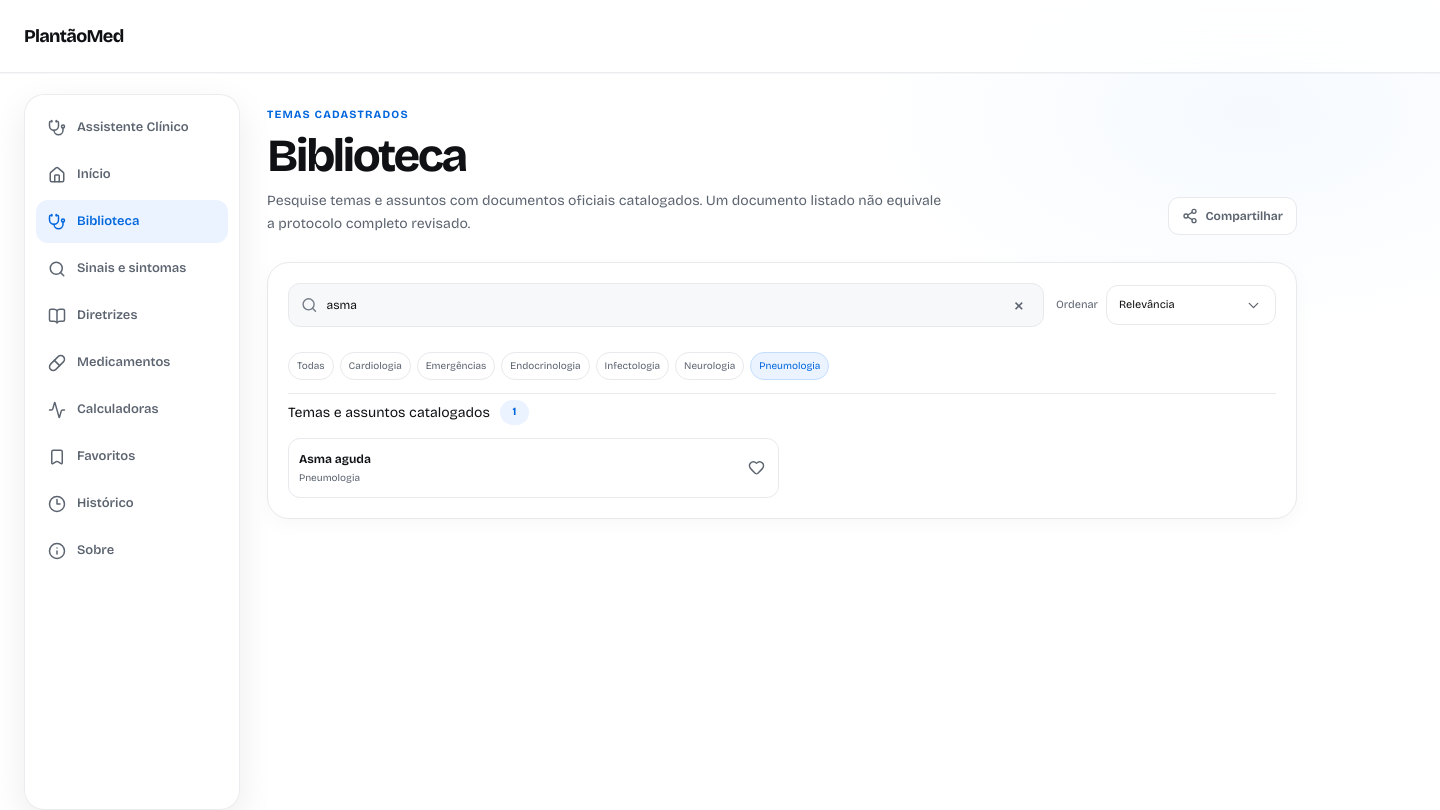
Test case: PlantãoMed independent routes › returns from protocol details to the prior filtered library URL
The image size is (1440, 810).
Click the link "Asma aguda Pneumologia" at (335, 468), box [299, 452, 371, 484]
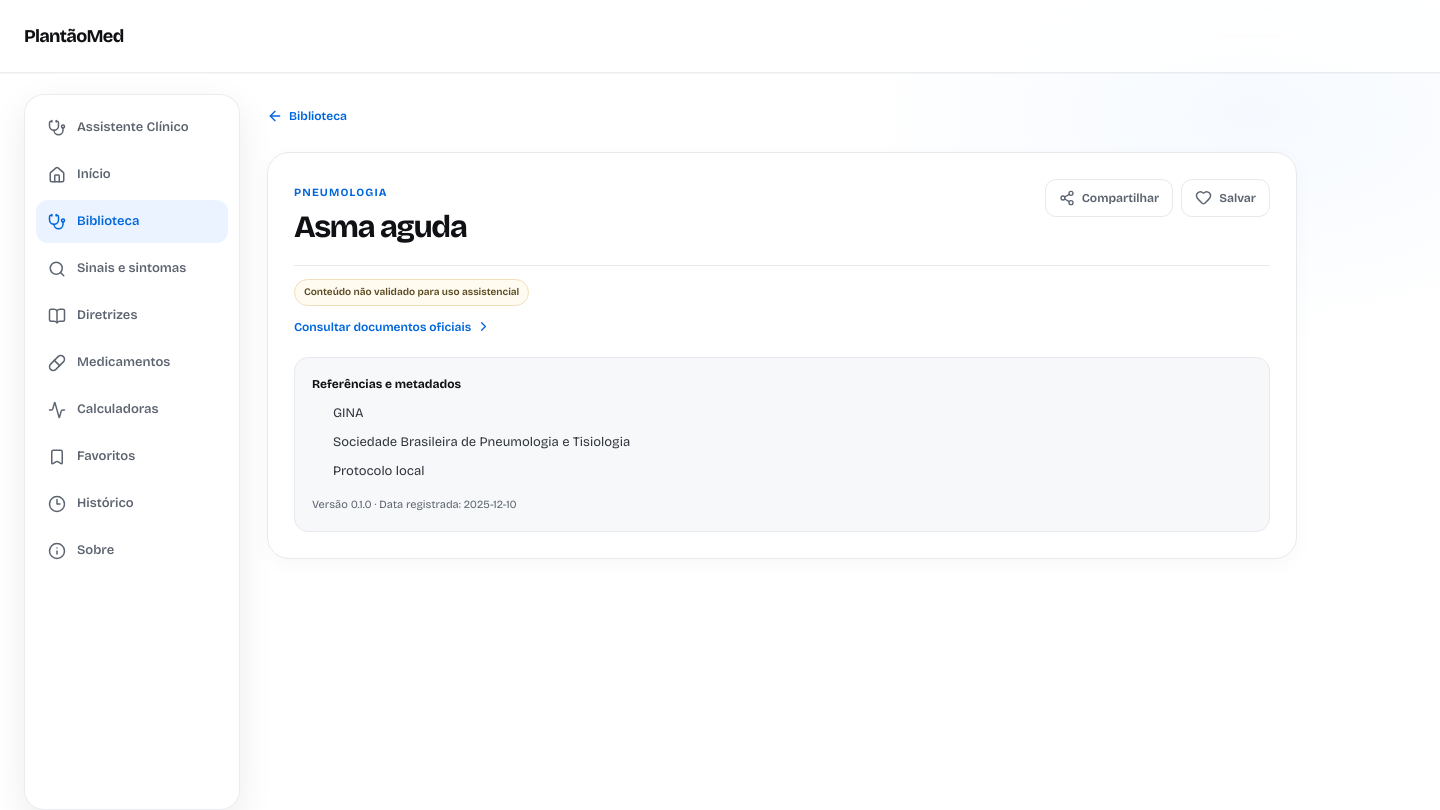
Result: the heading "Asma aguda" is shown at [294, 209, 466, 245]
Click the link with class "back-link" at (307, 116), box [267, 107, 347, 125]
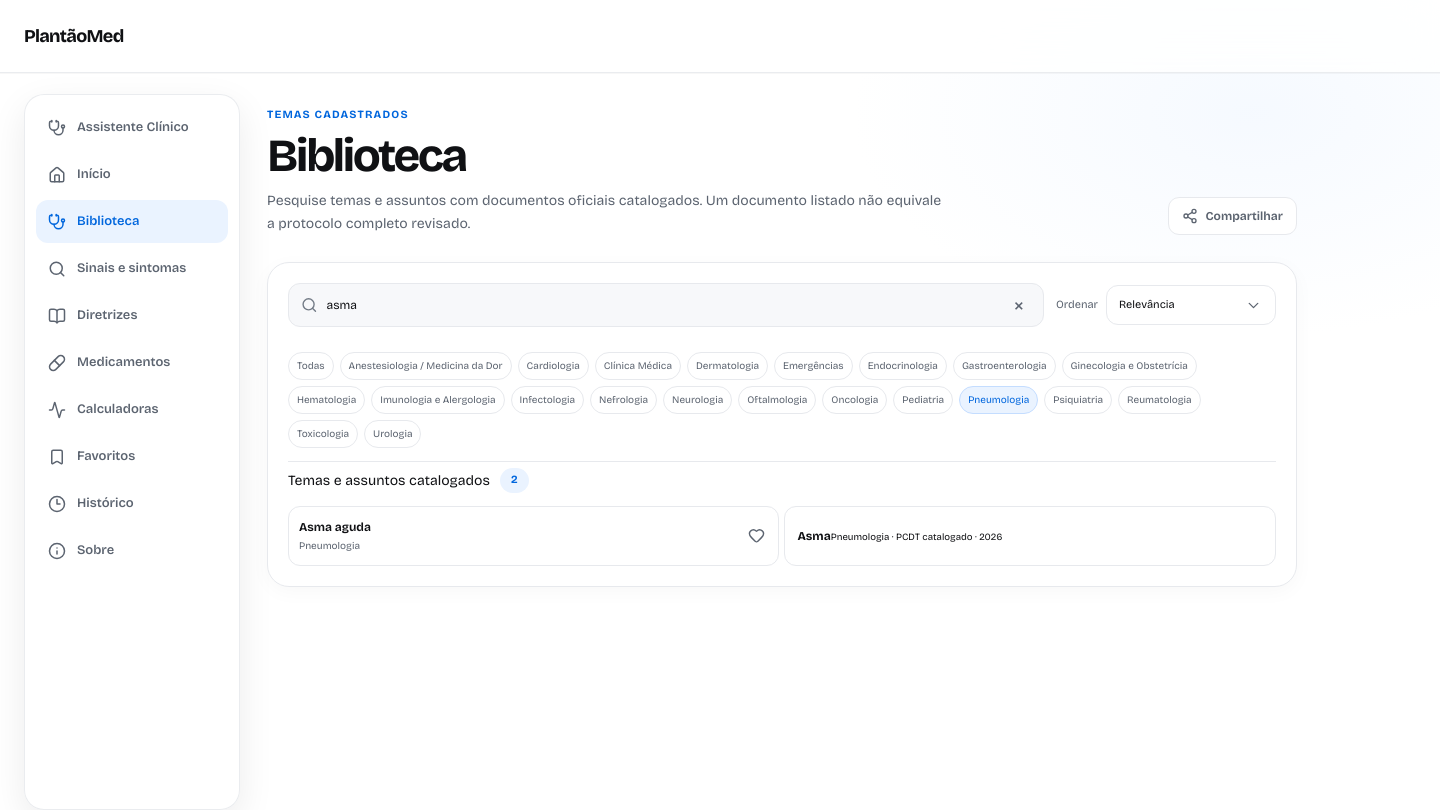
Result: the heading "Biblioteca" is shown at [267, 128, 466, 184]
Result: the search field labelled "×" holds "asma" at [326, 285, 998, 325]
